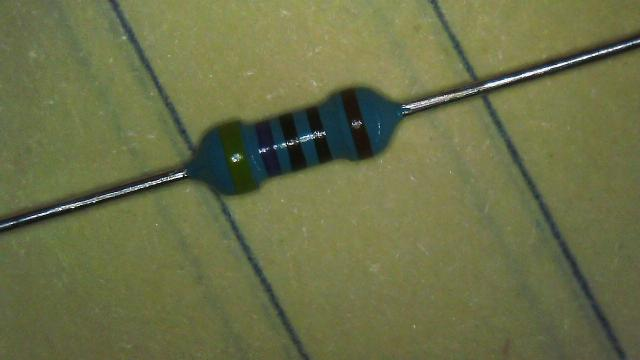black: (278, 112, 306, 170), (306, 106, 332, 163)
brown: (340, 88, 372, 158)
resistor: (176, 82, 421, 202)
violet: (256, 120, 281, 177)
yellow: (218, 122, 255, 194)
